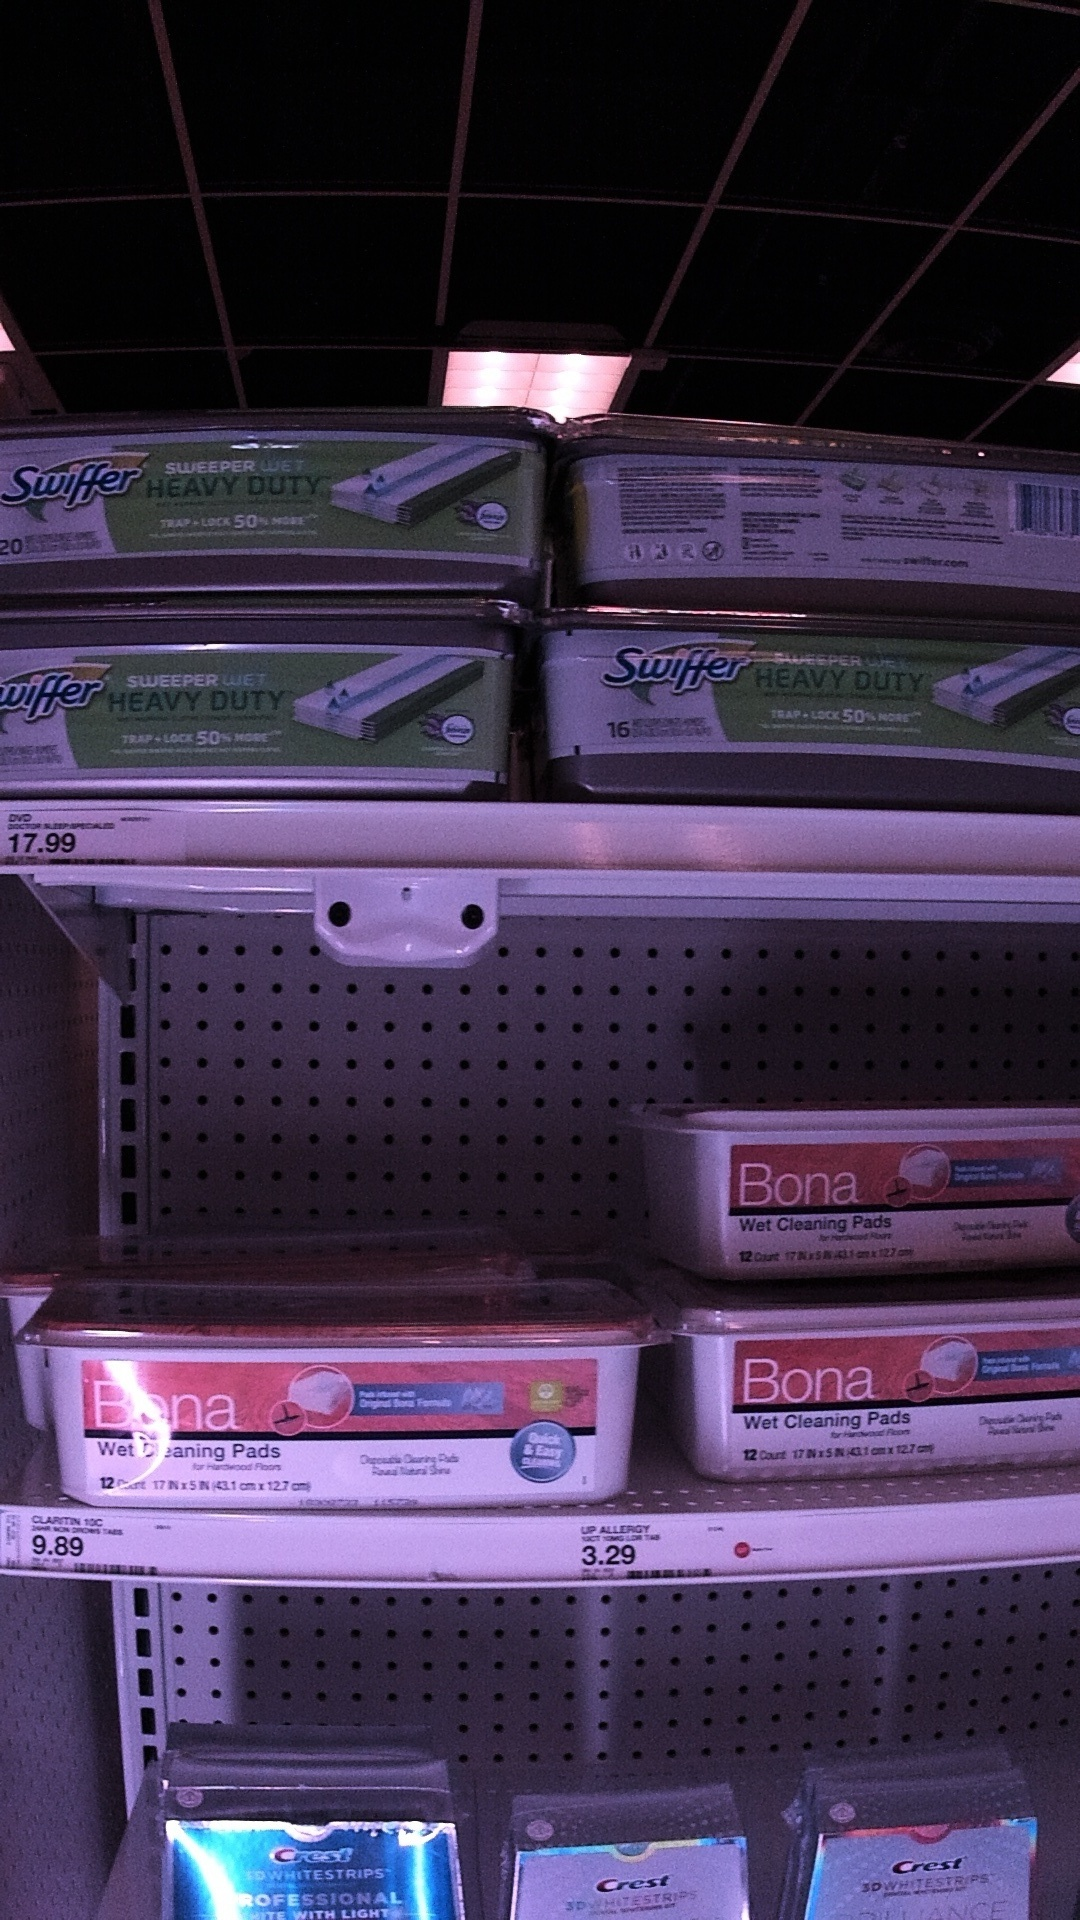ptag: (568, 1515, 781, 1586), (3, 806, 189, 884), (18, 1511, 185, 1582)
